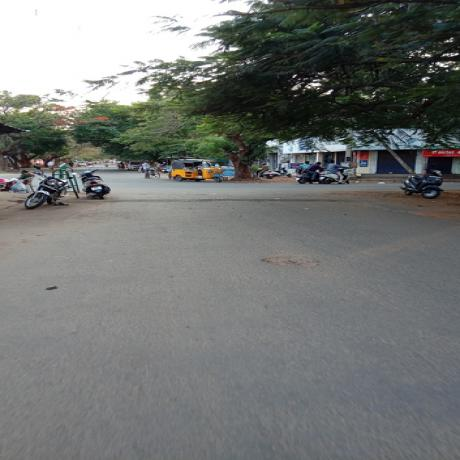Speed Bump: (77, 198, 358, 204)
